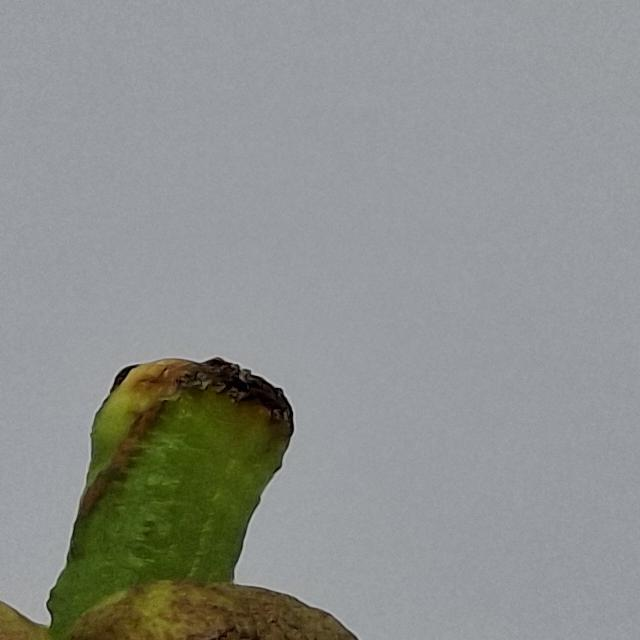mangosteen: (0, 330, 630, 640)
